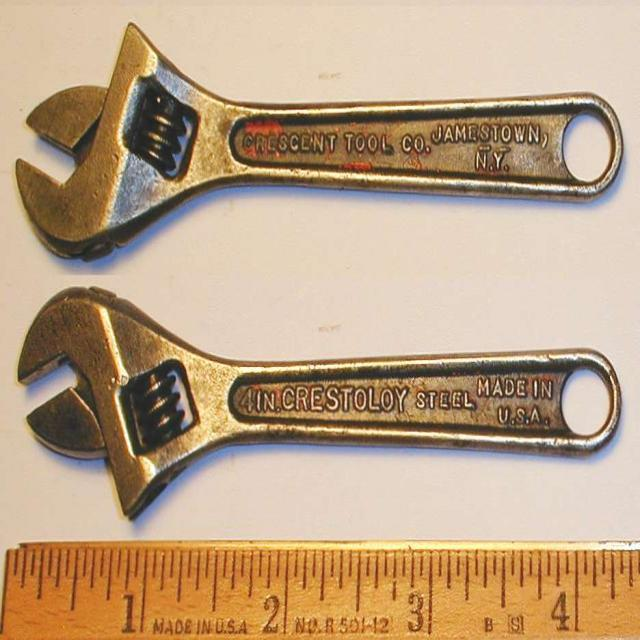wrench: (13, 276, 628, 528), (14, 15, 626, 266)
